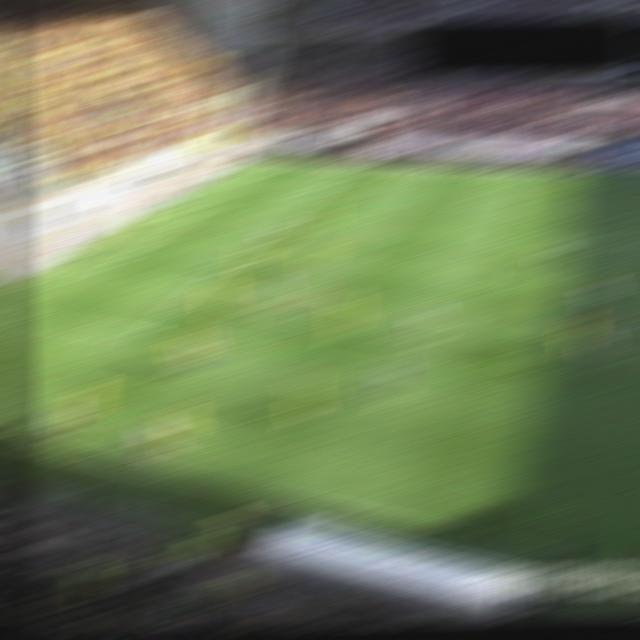bigarea_bottom_inner: (119, 323, 154, 342)
bigarea_top_inner: (305, 184, 337, 195)
bigarea_top_outter: (196, 178, 227, 187)
bottom_arc_area_intersection: (202, 260, 237, 274)
corner: (238, 156, 270, 163)
halfcircle_bottom: (617, 310, 640, 335)
halfcircle_top: (613, 227, 640, 248)
midline_top_intersection: (615, 168, 640, 180)
smallarea_bottom_inner: (88, 258, 125, 274)
smallarea_bottom_outter: (46, 256, 80, 267)
smallarea_top_inner: (186, 203, 219, 215)
smallarea_top_outter: (148, 199, 181, 210)
top_arc_area_intersection: (266, 214, 297, 226)
